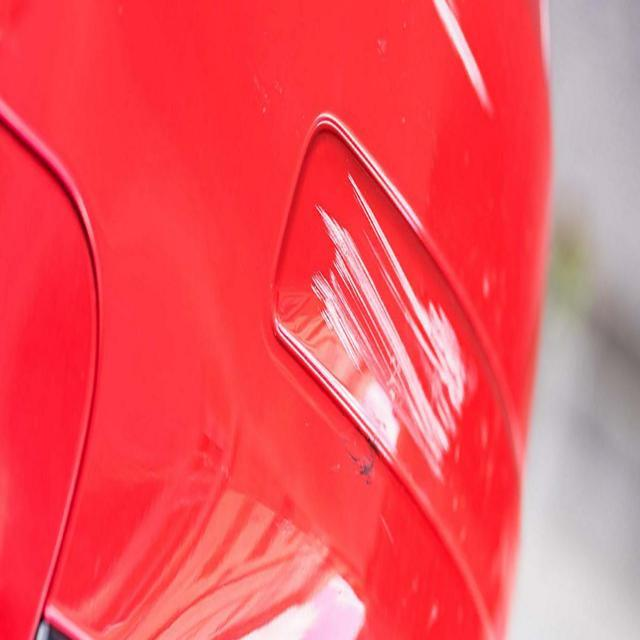scratch: (285, 148, 474, 462)
